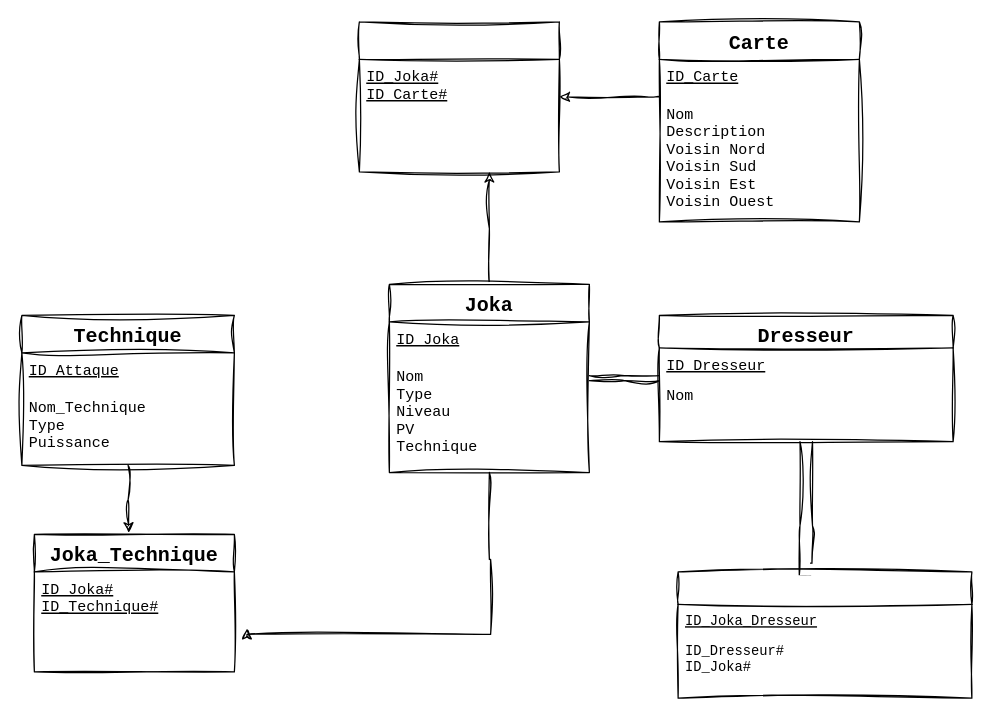
The diagram is 994 pixels wide and 719 high, and some of its shapes have lost their labels. The shapes that lost their labels are listed below. From the top down, each one's box as (x1, y1, x2, y2) in pixels, then its label:
(358, 21, 559, 172): Apparition
(677, 571, 972, 698): Pokemon_Dresseur
